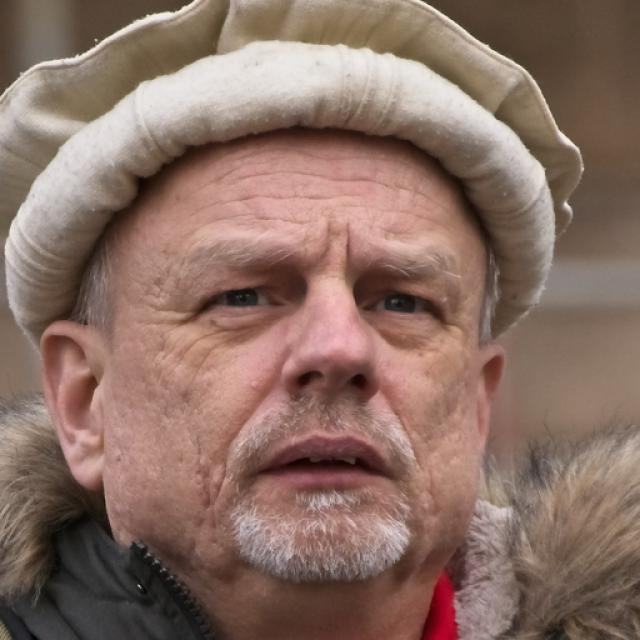anger: (110, 124, 485, 584)
